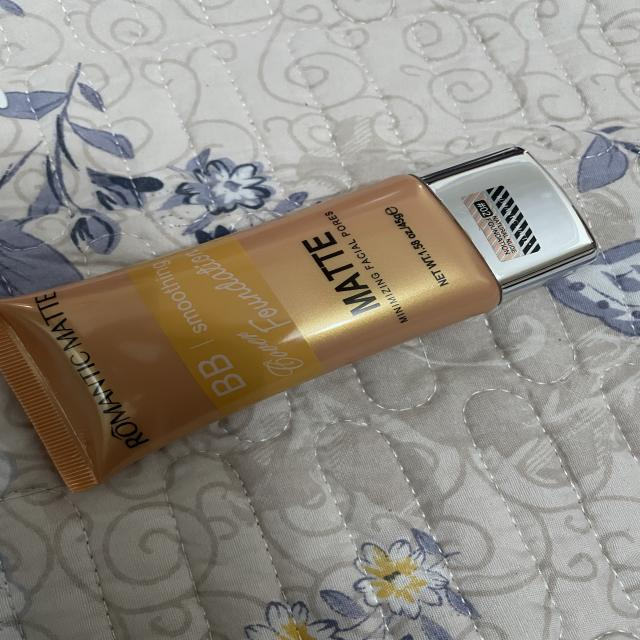bb cream: (0, 135, 612, 509)
